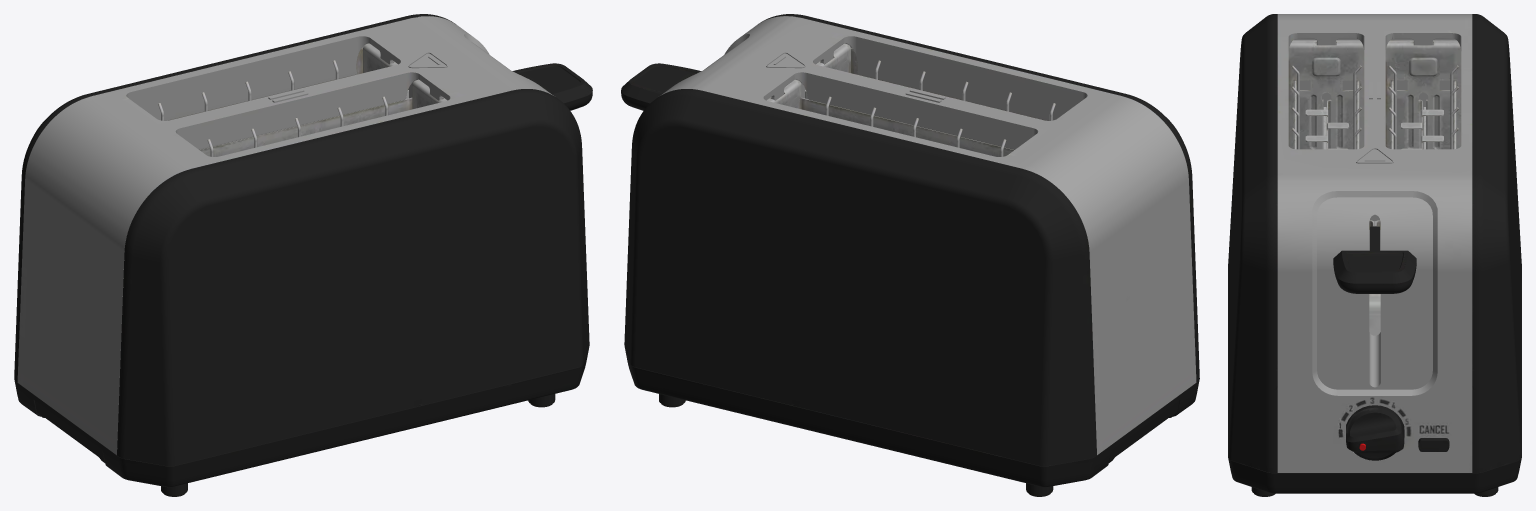
File: appliance_toaster_a01.glb
3 renders of one model, left to right at view 1: azimuth 30°, elevation 25°; view 2: azimuth 150°, elevation 25°; view 3: azimuth 270°, elevation 25°, orthographic.
Visible parts, largest first — view 1: body_mesh_01.001, lever_mesh_01.001; view 2: body_mesh_01.001, lever_mesh_01.001; view 3: body_mesh_01.001, lever_mesh_01.001, dial_mesh_01.001, tray_mesh_01, cancel_button_mesh_01.
Boxes of the visible parts, x1,y1,x2,y2 form: body_mesh_01.001: [14, 14, 589, 496]; lever_mesh_01.001: [512, 63, 592, 110]; body_mesh_01.001: [624, 14, 1199, 496]; lever_mesh_01.001: [621, 63, 701, 110]; body_mesh_01.001: [1228, 14, 1521, 496]; lever_mesh_01.001: [1333, 226, 1416, 293]; dial_mesh_01.001: [1346, 405, 1404, 460]; tray_mesh_01: [1305, 100, 1443, 229]; cancel_button_mesh_01: [1418, 438, 1449, 451].
Size of the model in its own units: 0.3066 by 0.1791 by 0.1549.
1 material, 1 textured.
